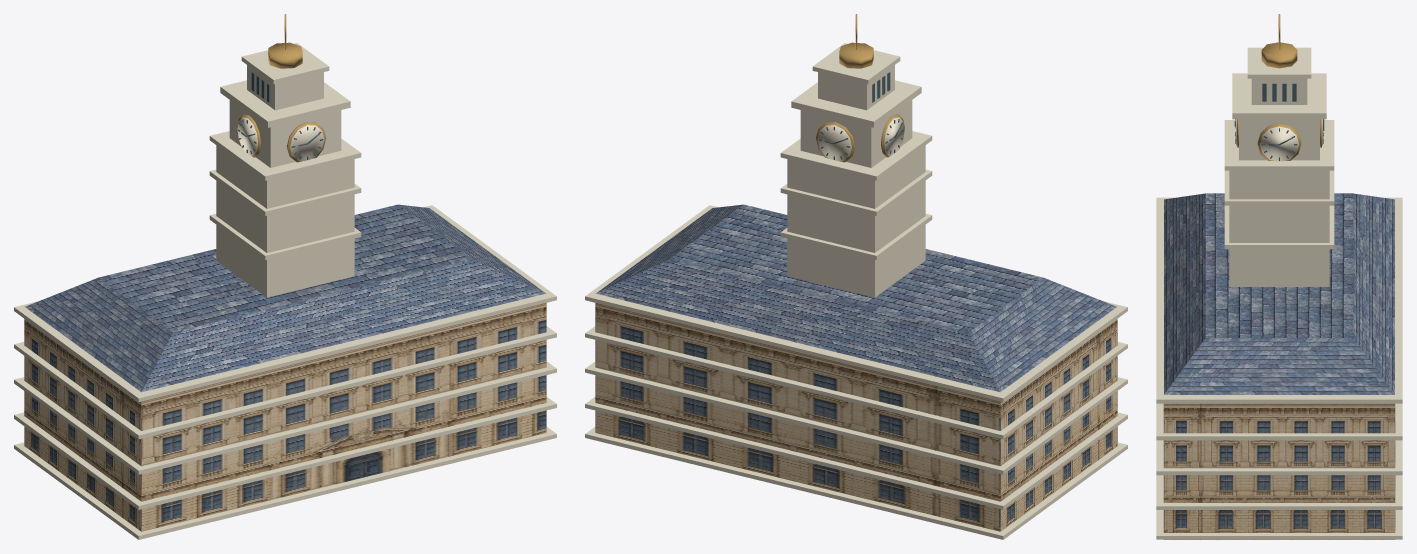
File: customs-lod2.glb
The picture shows the model from 3 angles, left to right: view 1: azimuth 30°, elevation 25°; view 2: azimuth 150°, elevation 25°; view 3: azimuth 270°, elevation 25°; orthographic projection.
Parts seen in each view (by area): view 1: customs_architecture; view 2: customs_architecture; view 3: customs_architecture.
Boxes of the visible parts, <box> form: customs_architecture: <box>14,14,556,539</box>; customs_architecture: <box>585,14,1127,539</box>; customs_architecture: <box>1156,14,1402,539</box>.
Bounding box in the file's own units: 24.8 × 24.5 × 12.8.
6 materials, 3 textured.
